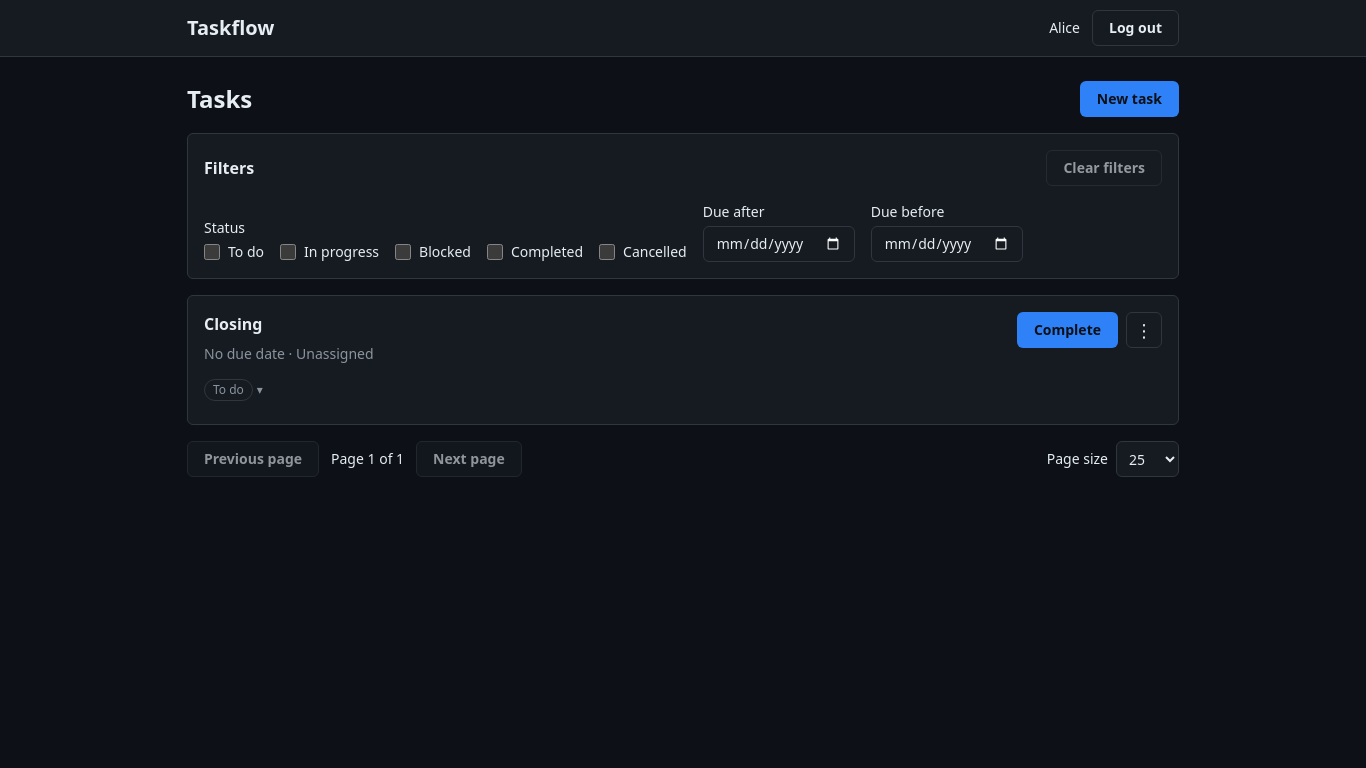
Test: card actions menu › test_ac03_the_menu_closes_after_choosing_an_action
Click the button named "actions for" at (1144,330), box [1126,312,1162,348]
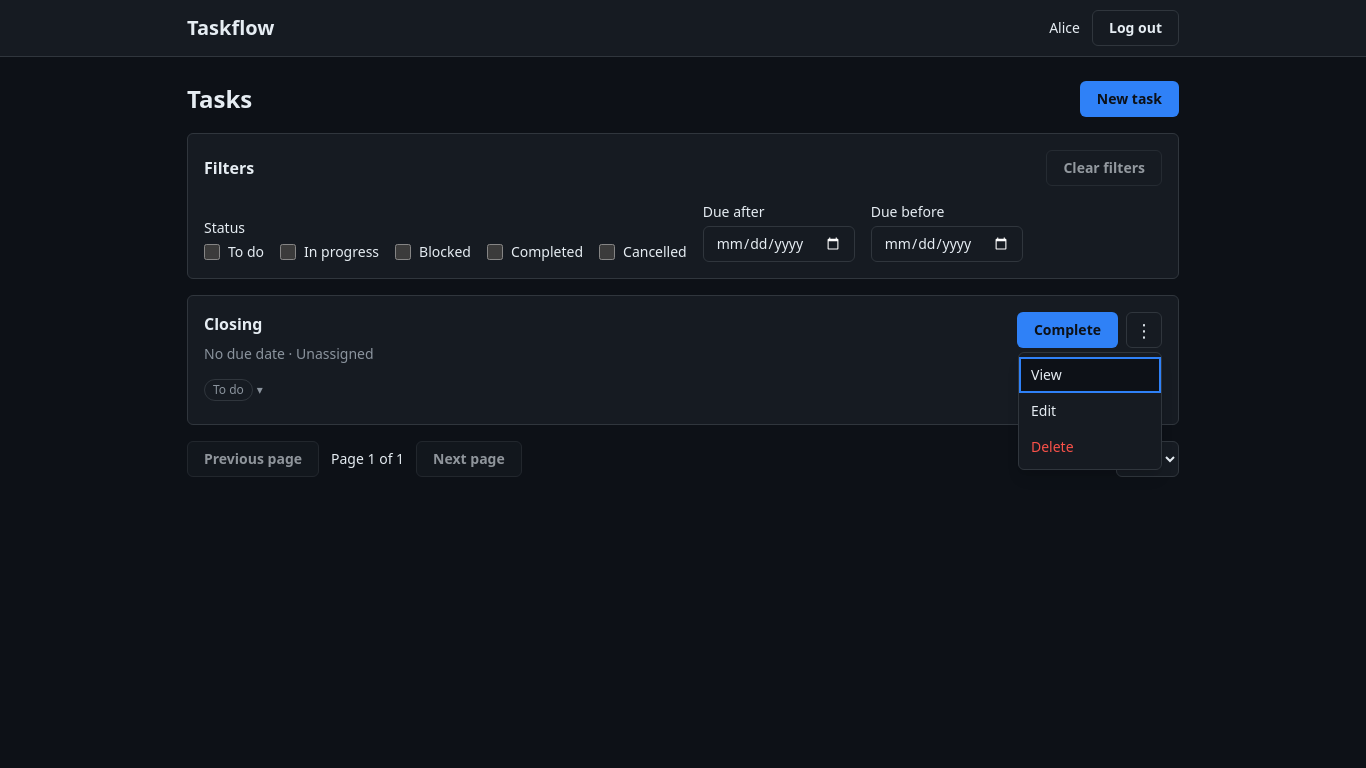
Click the menu item "Edit" at (1090,411), box [1019,393,1161,429]
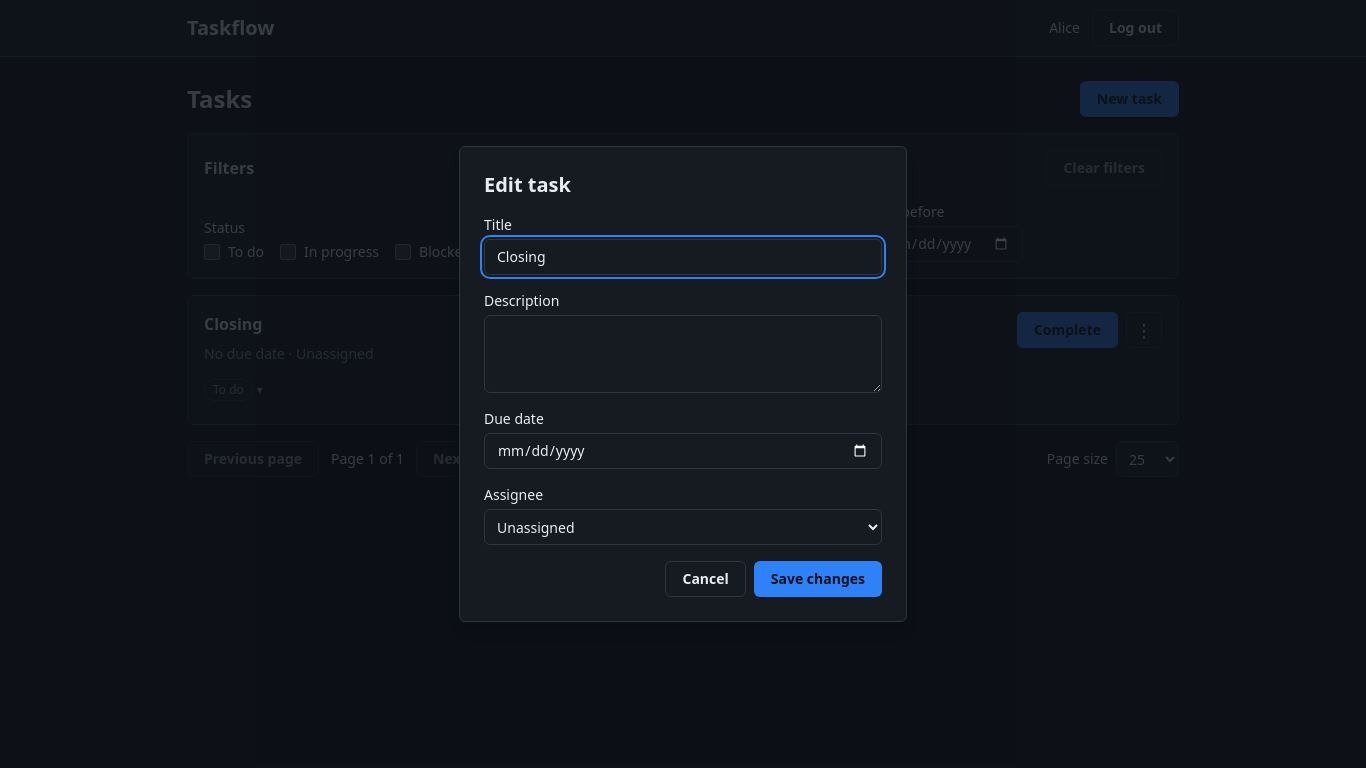
Expected: the menu is gone
Expected: the dialog "Edit task" is shown, [459,146,907,622]
